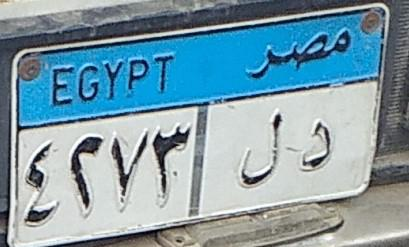2: (66, 126, 103, 223)
3: (146, 120, 192, 227)
4: (21, 124, 62, 237)
7: (103, 117, 149, 219)
د: (289, 105, 339, 197)
ل: (238, 95, 286, 197)
